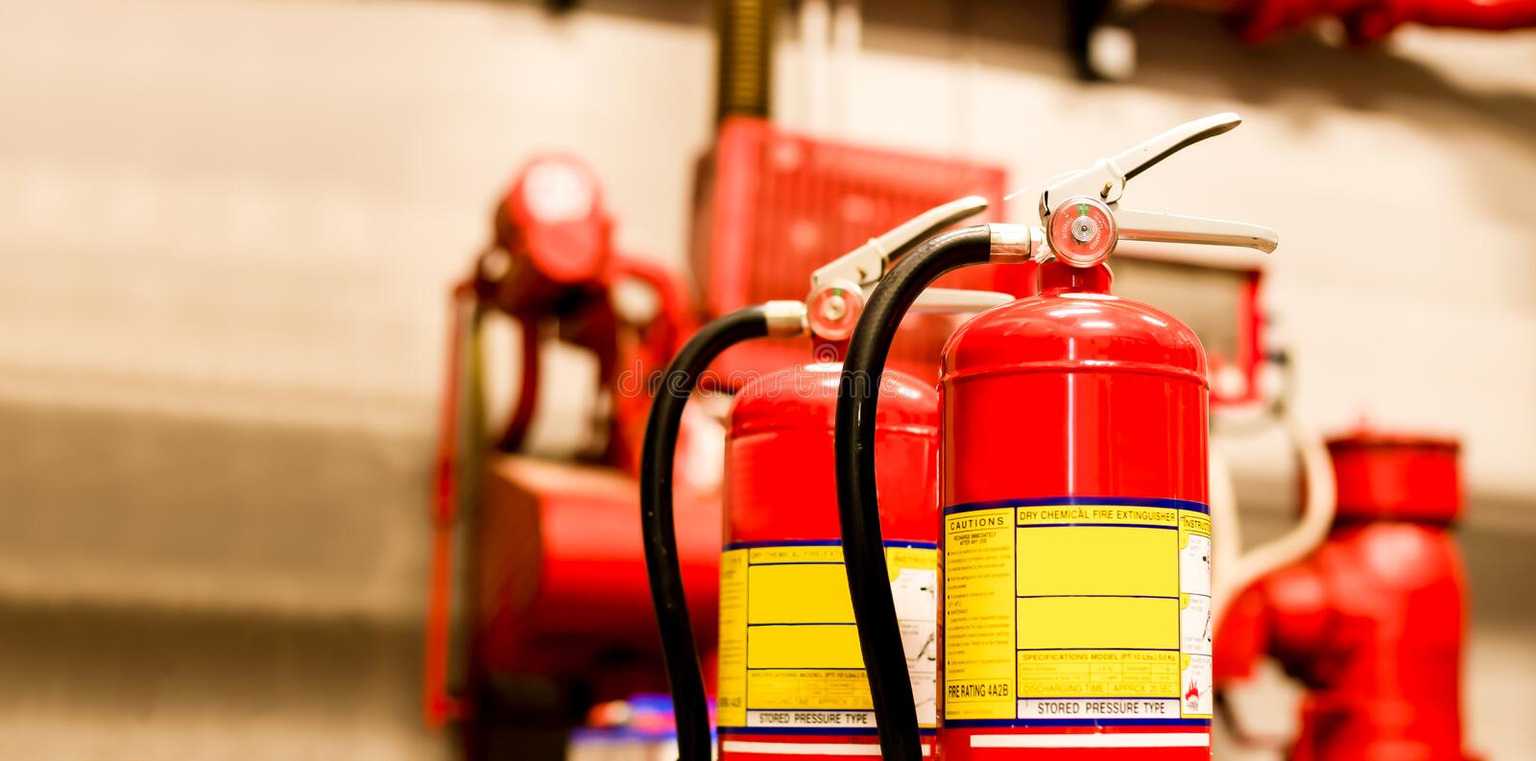fire_extinguisher: (823, 111, 1287, 759), (637, 194, 1034, 759), (422, 150, 722, 757), (1212, 427, 1484, 759)
